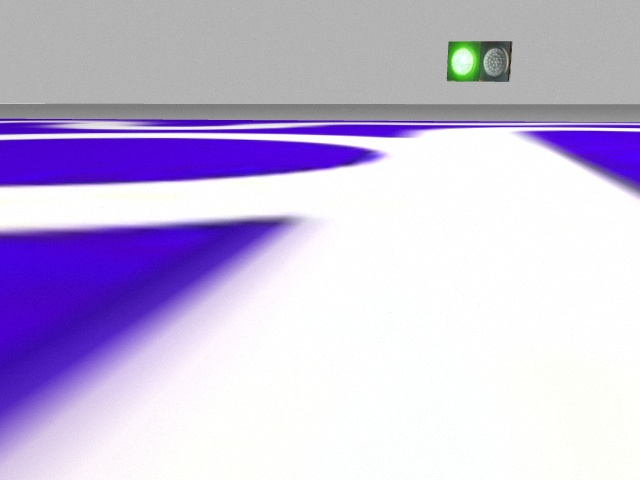green: (446, 40, 483, 81)
